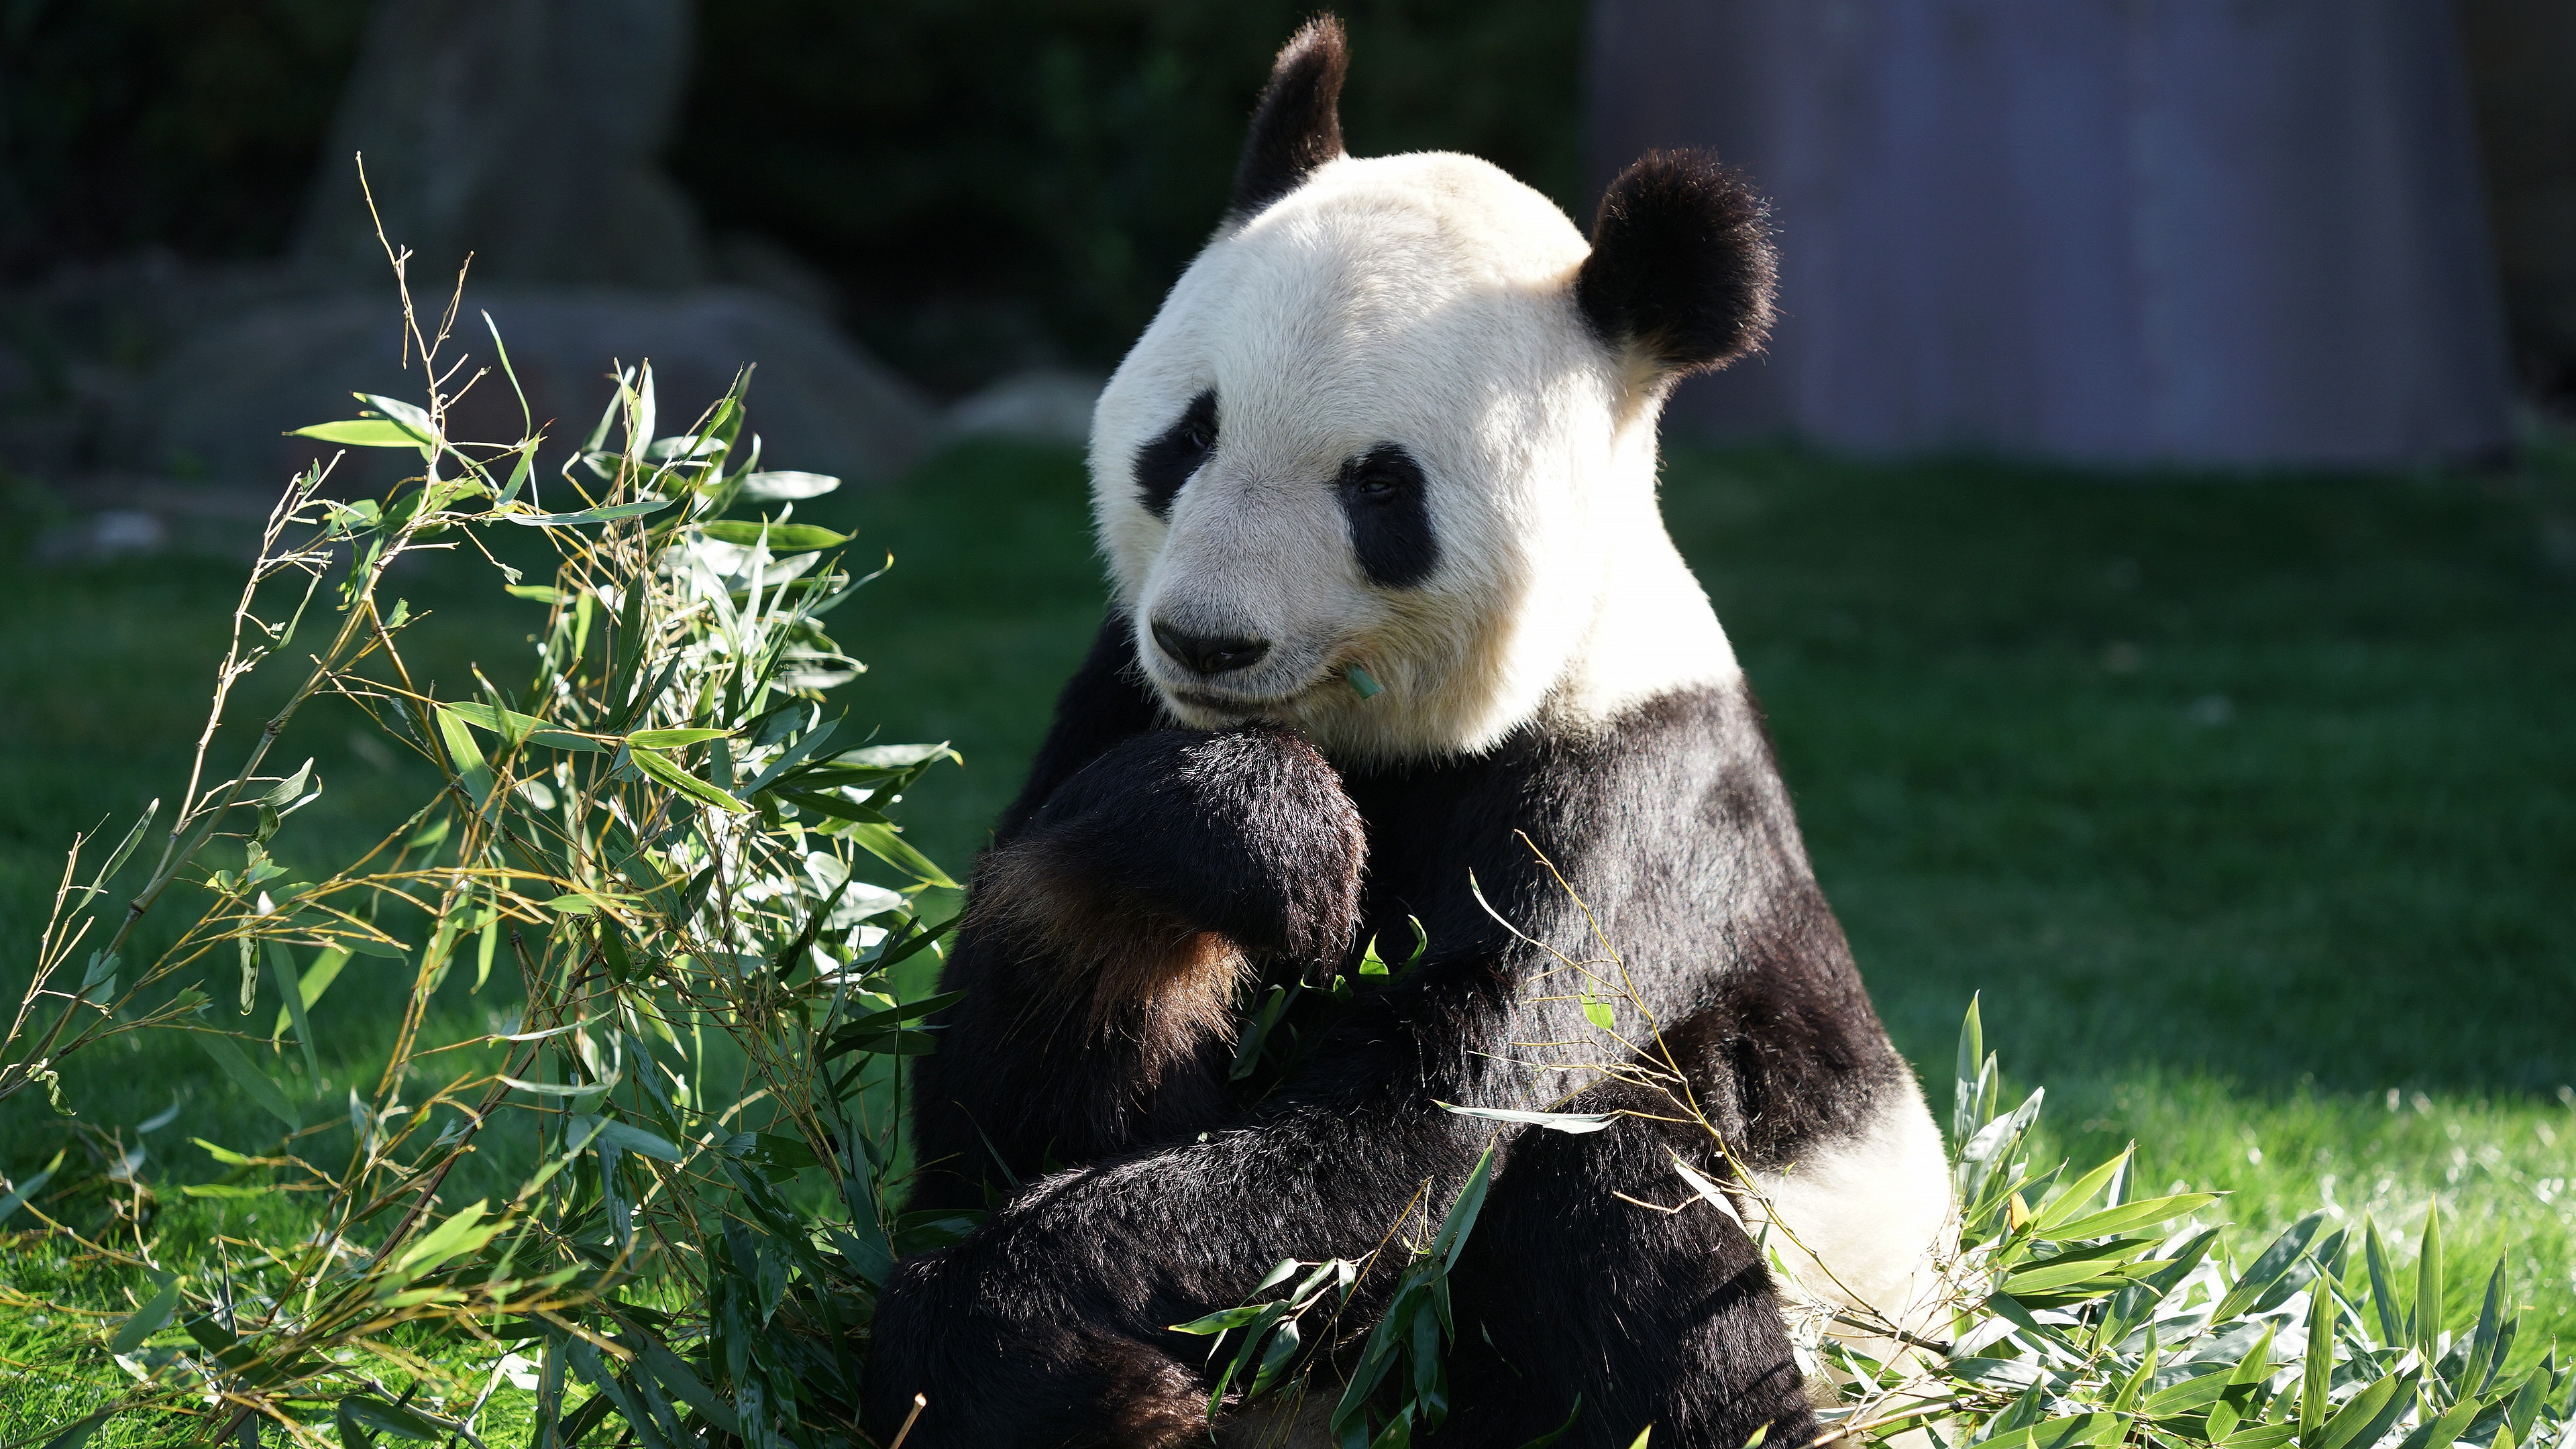panda: (826, 62, 2121, 1394)
